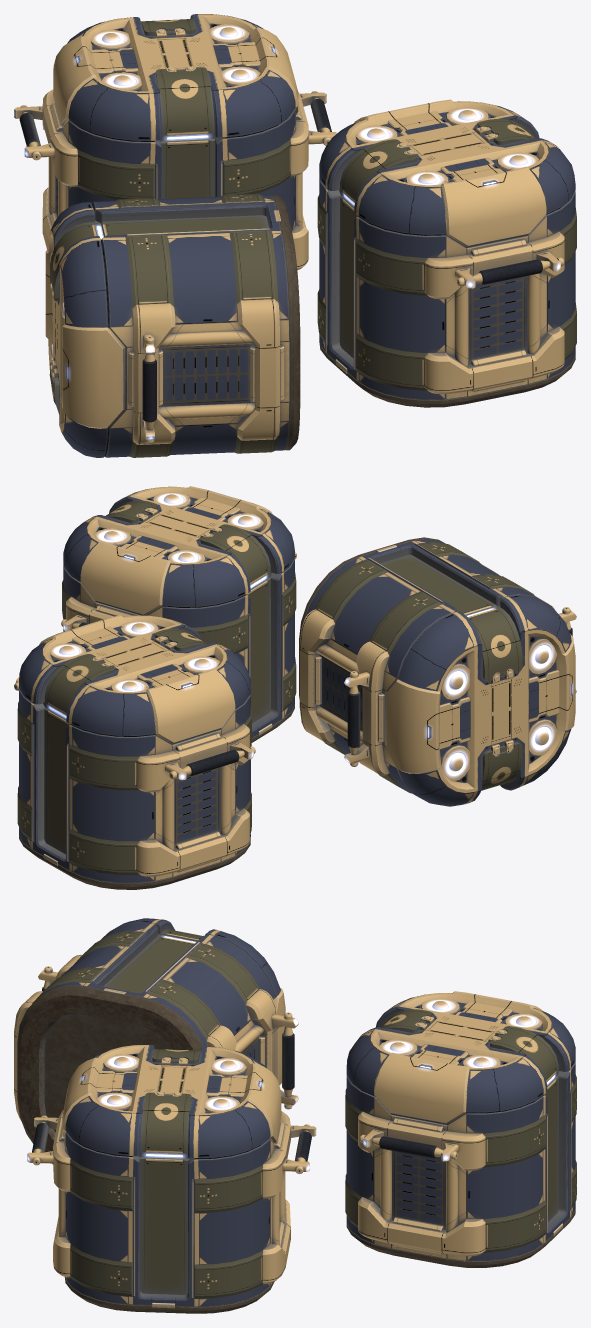
File: treasure-v1.glb
3 renders of one model, top to bottom at view 1: azimuth 30°, elevation 25°; view 2: azimuth 150°, elevation 25°; view 3: azimuth 270°, elevation 25°, orthographic. The views are drawn at different scales.
Visible parts, largest first — view 1: reward_chest_1; view 2: reward_chest_1; view 3: reward_chest_1.
Boxes of the visible parts, box(x1,y1,x2,y2) form: reward_chest_1: box(14, 14, 576, 457); reward_chest_1: box(14, 486, 576, 889); reward_chest_1: box(14, 918, 576, 1313).
Bounding box in the file's own units: 5.09 × 2.06 × 5.34.
1 material, 1 textured.
